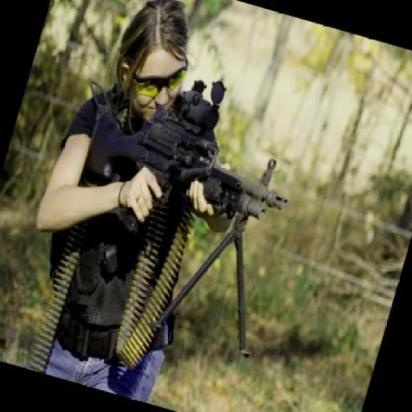Gun: (66, 54, 313, 274)
